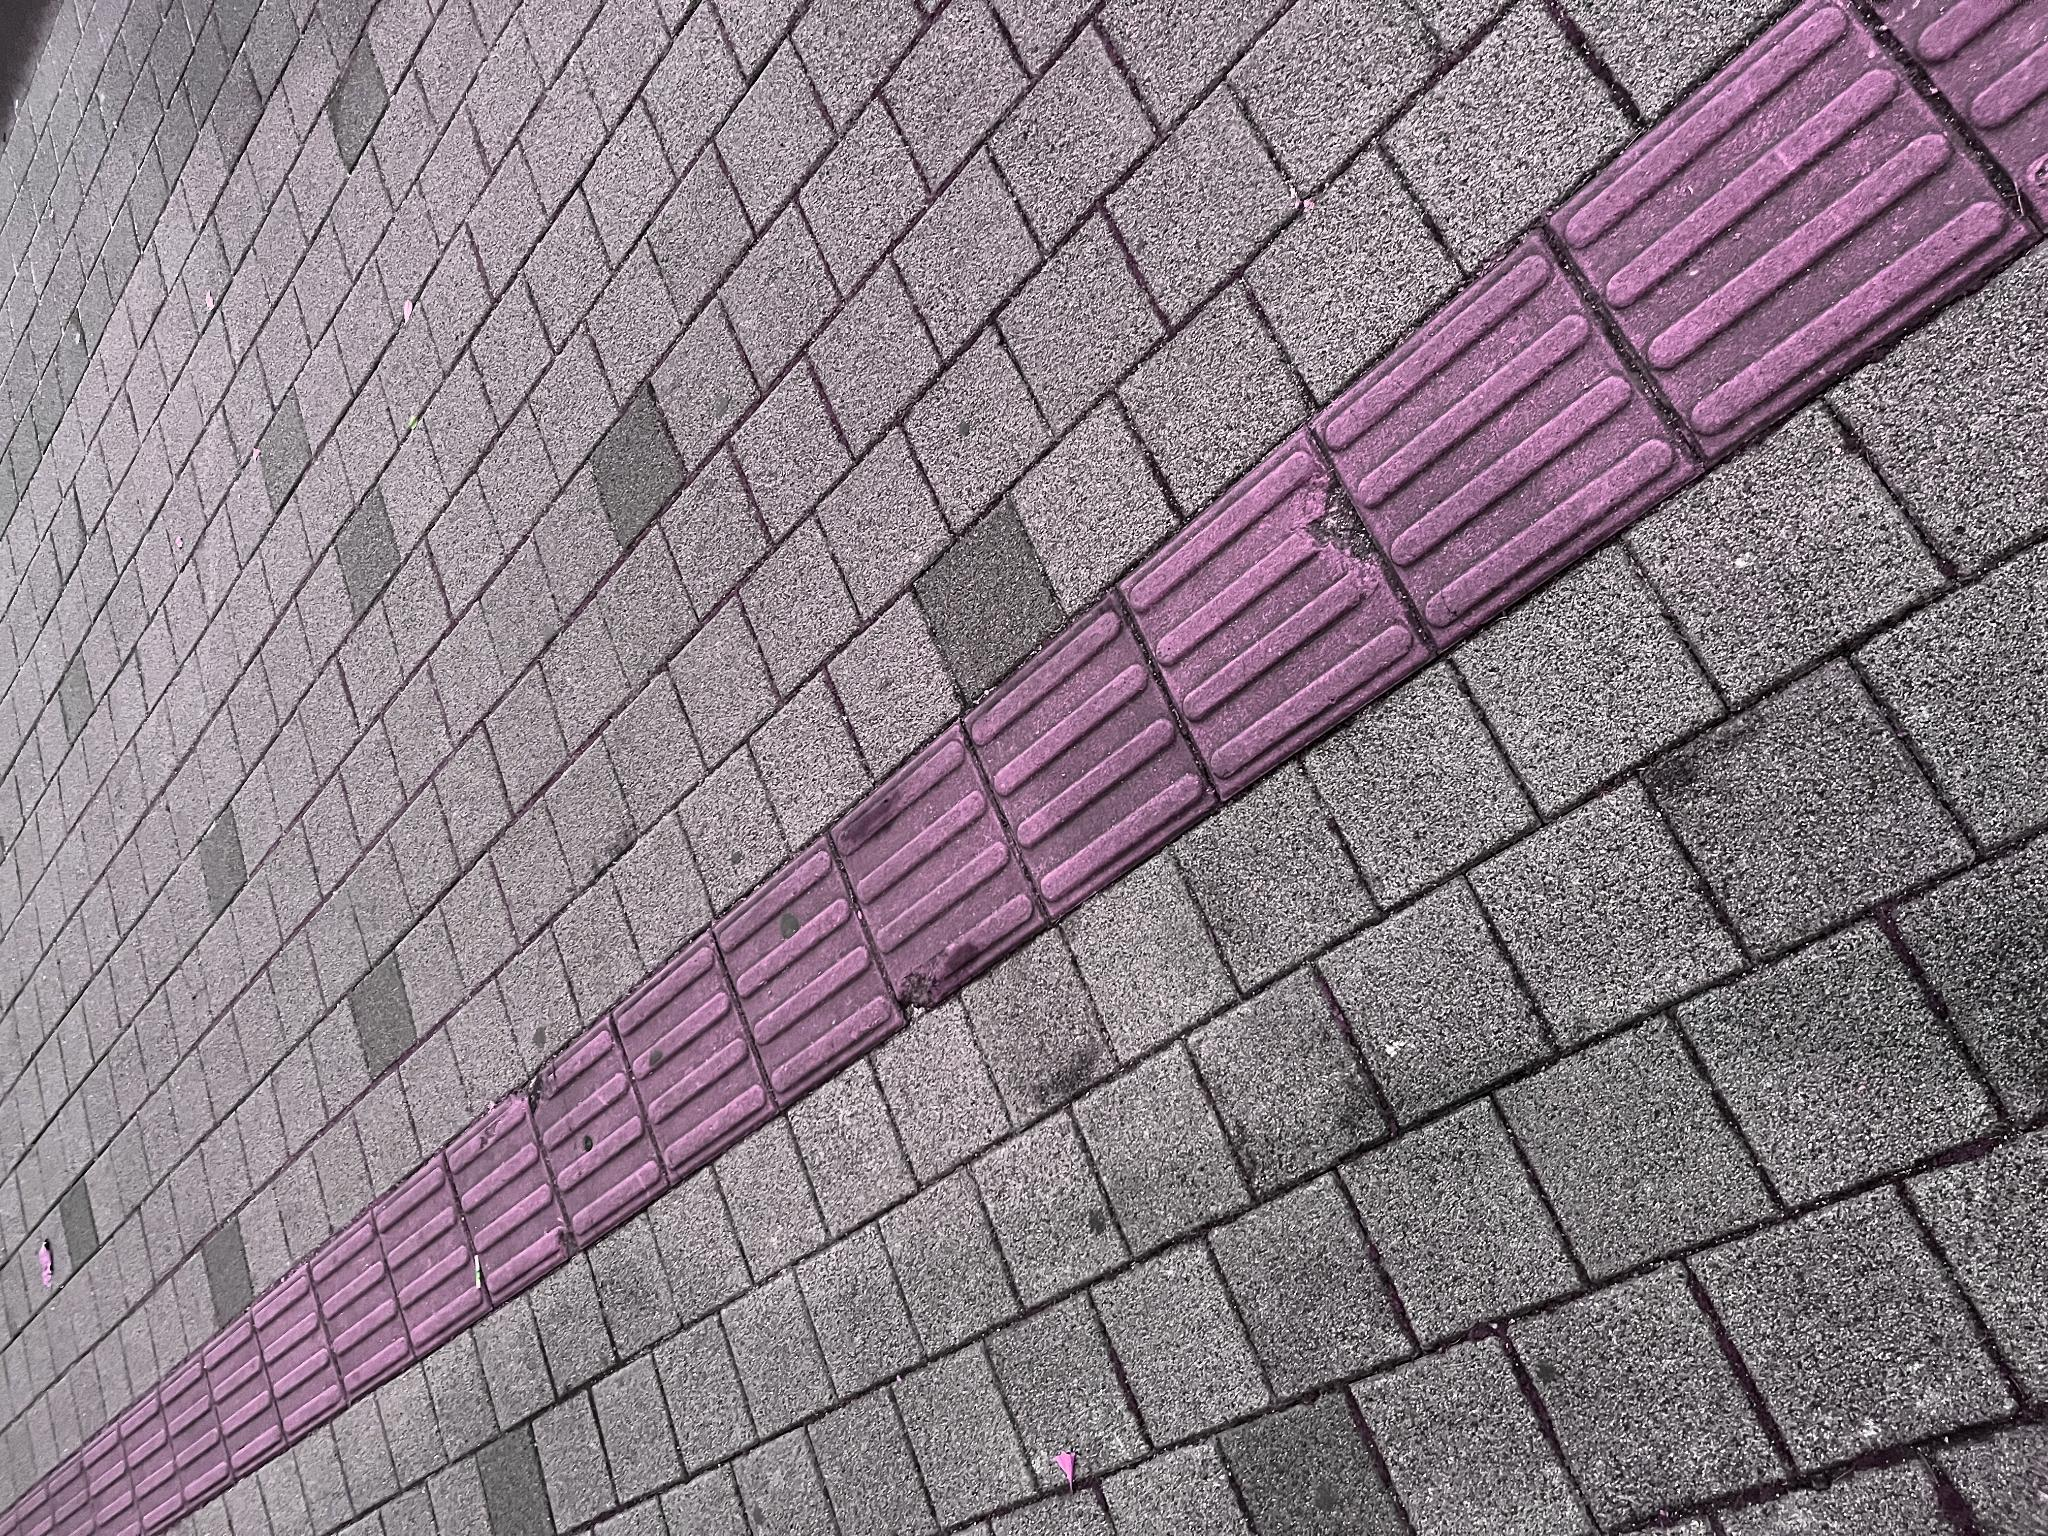Straight block broken: (739, 1120, 1108, 1431), (516, 829, 814, 1047), (290, 526, 521, 665), (232, 444, 450, 576)
Straight block normal: (887, 1310, 1305, 1536), (618, 965, 943, 1212), (432, 713, 698, 900), (353, 613, 606, 776)
